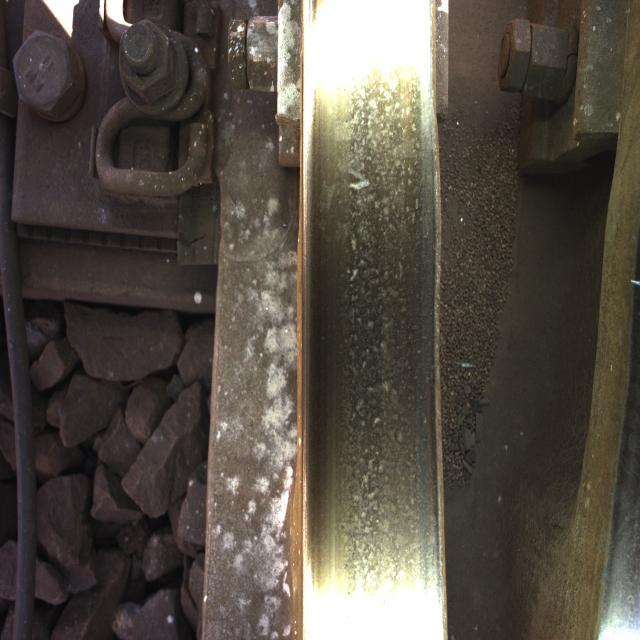scar: (328, 70, 432, 596)
